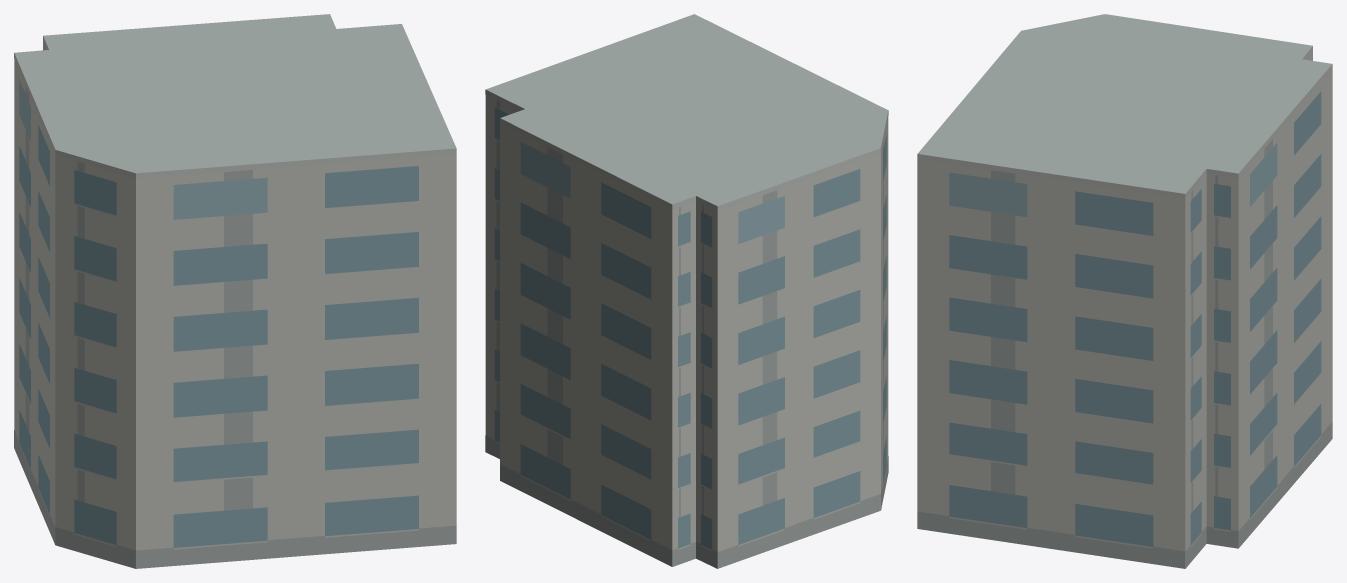
The model's file is survey-upis-32892019.glb.
The picture shows the model from 3 angles, left to right: view 1: azimuth 30°, elevation 25°; view 2: azimuth 150°, elevation 25°; view 3: azimuth 270°, elevation 25°; orthographic projection. The views are drawn at different scales.
Visible parts, largest first — view 1: survey-upis-32892019.tmp; view 2: survey-upis-32892019.tmp; view 3: survey-upis-32892019.tmp.
Part boxes in pixels (x1,y1,x2,y2): survey-upis-32892019.tmp: [14, 14, 456, 568]; survey-upis-32892019.tmp: [485, 14, 888, 568]; survey-upis-32892019.tmp: [917, 14, 1332, 568].
Bounding box in the file's own units: 17.6 × 17.1 × 17.16.
